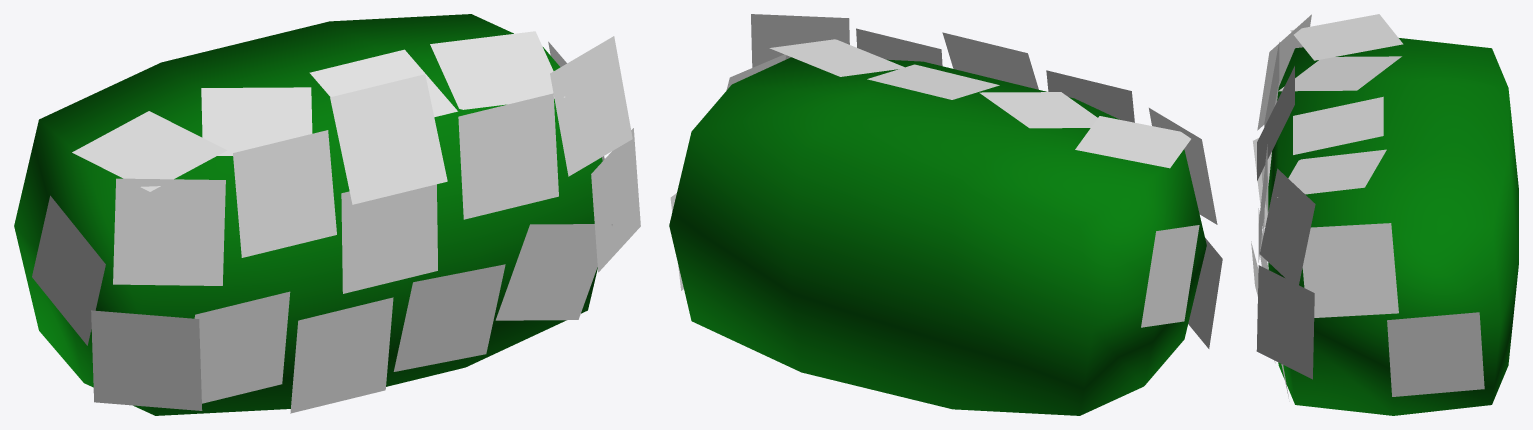
The model's file is barn_asset_6.fbx.
3 renders of one model, left to right at view 1: azimuth 30°, elevation 25°; view 2: azimuth 150°, elevation 25°; view 3: azimuth 270°, elevation 25°, orthographic. The views are drawn at different scales.
Visible parts, largest first — view 1: Cube; view 2: Cube; view 3: Cube.
Boxes of the visible parts, x1=… form: Cube: x1=14, y1=14, x2=640, y2=415; Cube: x1=669, y1=14, x2=1222, y2=415; Cube: x1=1251, y1=14, x2=1518, y2=415.
Size of the model in its own units: 545 by 285 by 272.
